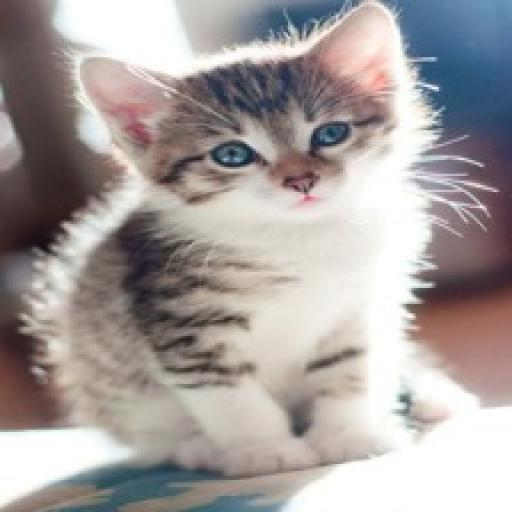cat: (11, 0, 487, 478)
